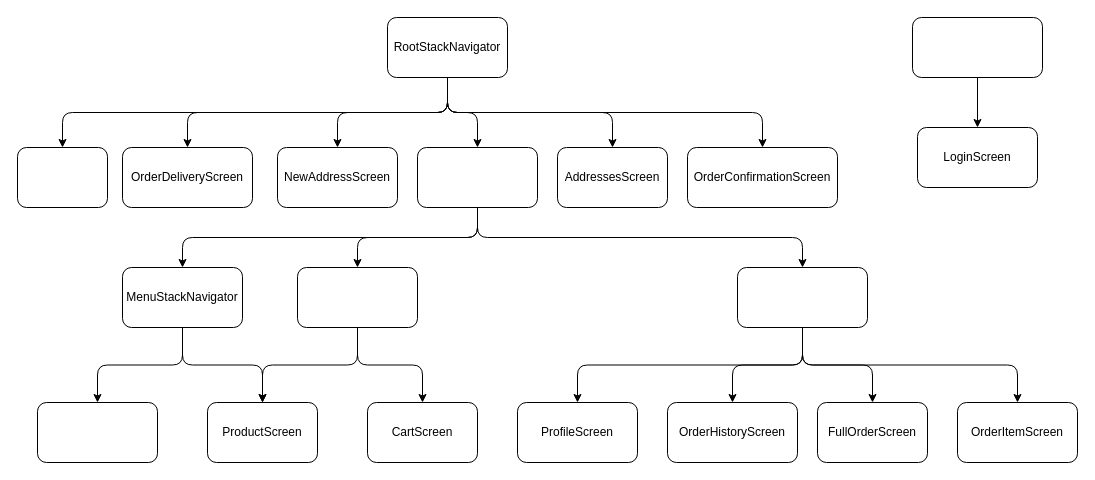
The diagram is 1095 pixels wide and 480 high, and some of its shapes have lost their labels. The box of each missing label's shape, as (x1, y1, x2, y2) in pixels:
CartStackNavigator: (296, 266, 418, 328)
ChatScreen: (16, 146, 108, 208)
LoginStackNavigator: (912, 16, 1042, 78)
MainTabNavigator: (416, 146, 538, 208)
MenuScreen: (36, 402, 158, 462)
ProfileStackNavigator: (736, 266, 868, 328)
